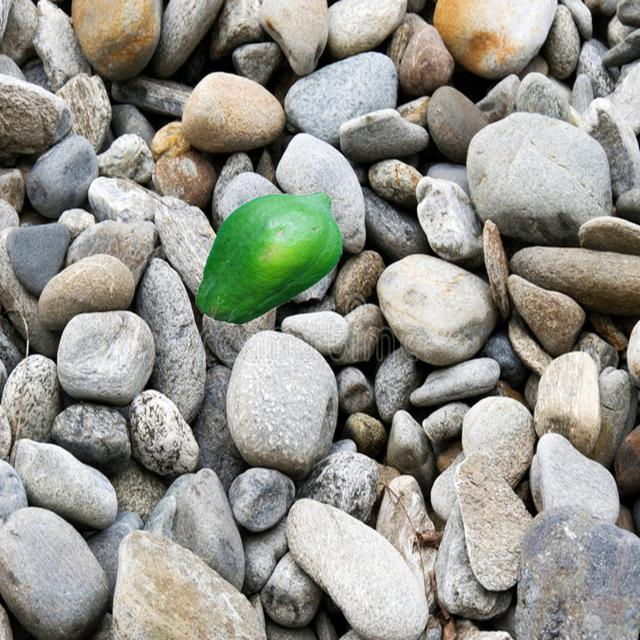Pepaya unrippen: (198, 190, 345, 334)
